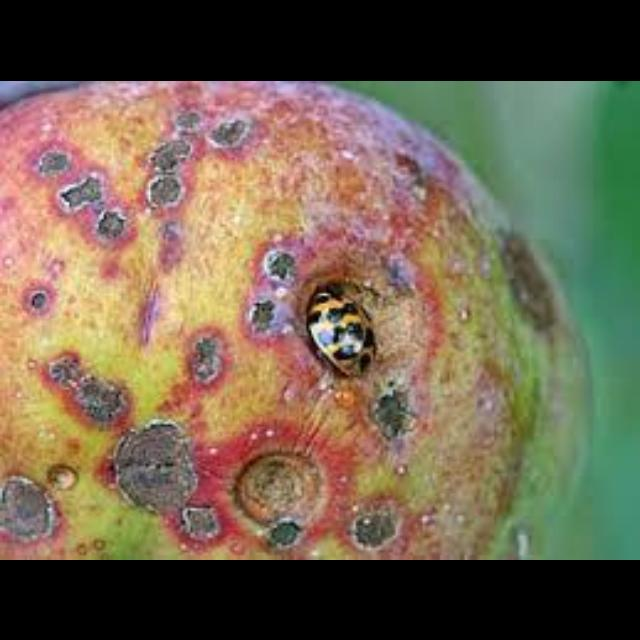apple: (0, 80, 586, 557)
pest: (304, 275, 398, 374), (114, 419, 195, 510), (232, 451, 321, 522), (504, 238, 549, 325), (0, 475, 54, 540), (72, 374, 126, 423), (351, 505, 398, 547), (59, 174, 101, 208), (146, 171, 180, 204)
